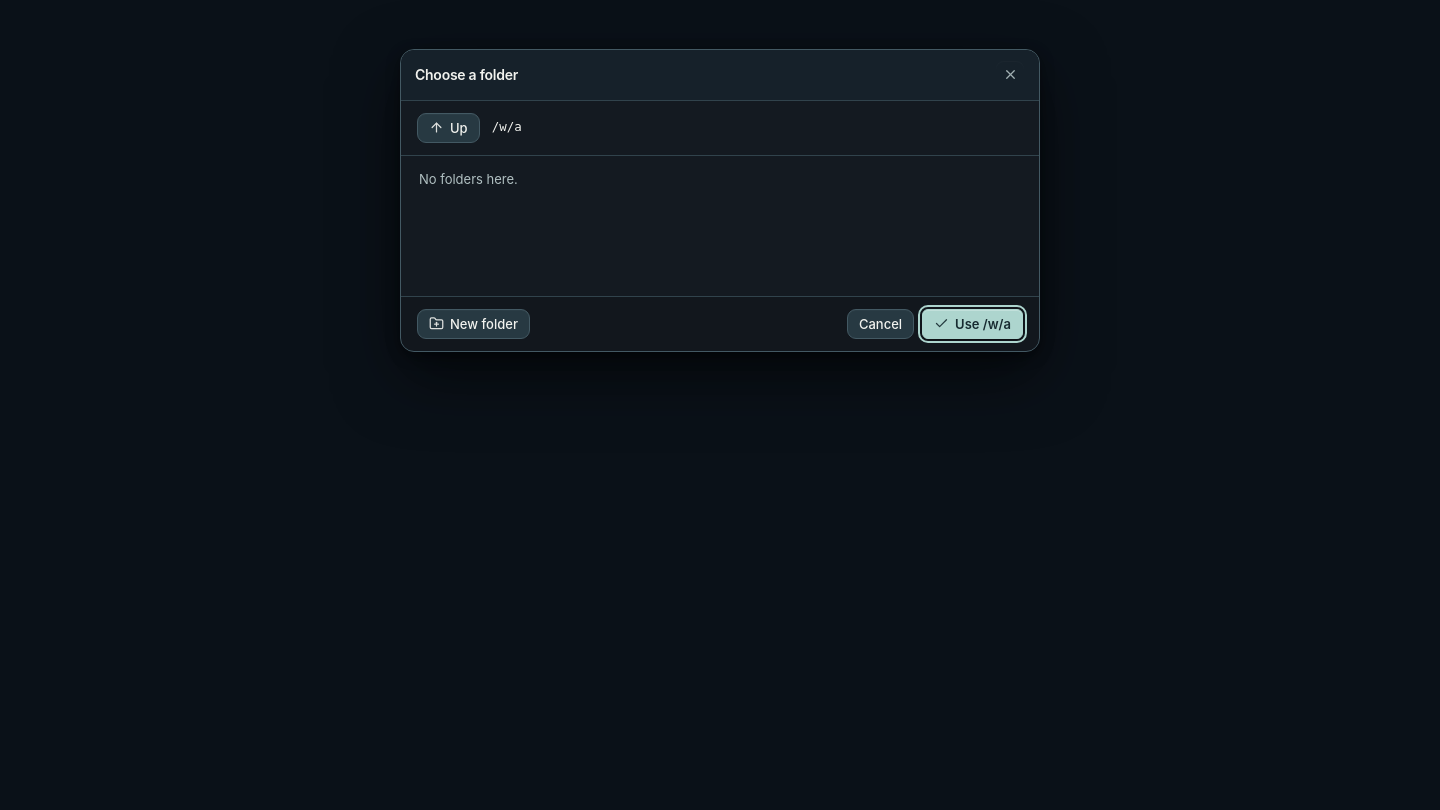
Scenario: on a computer, Up from an allowed folder goes back to the list of allowed folders
Expected: the dialog is shown, [400,49,1040,352]
Expected: the text "/w/a" is shown, [492,119,522,134]
Click the button "Up": [448, 128] box [417,113,480,143]
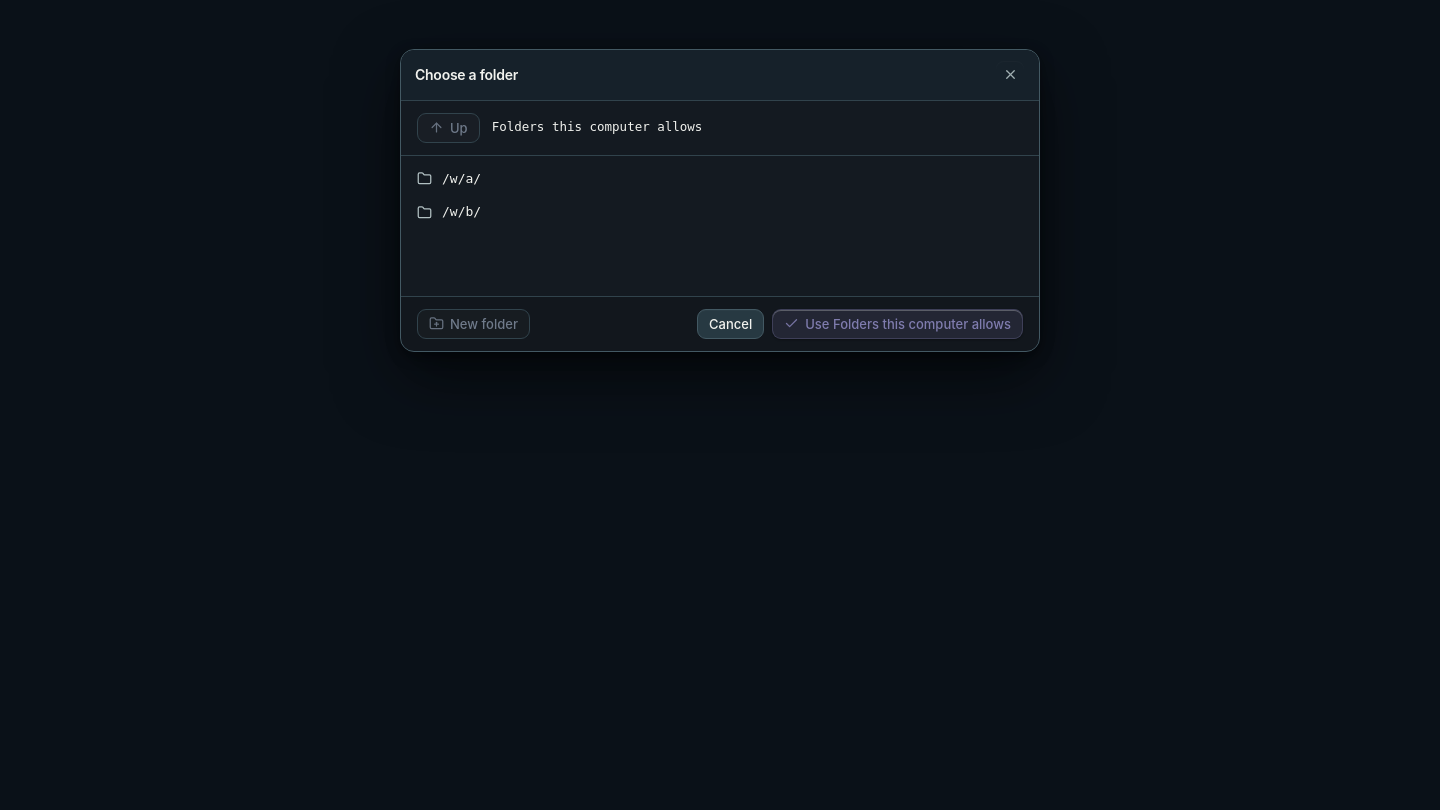
Expected: the text "Folders this computer allows" is shown, [492,119,702,134]
